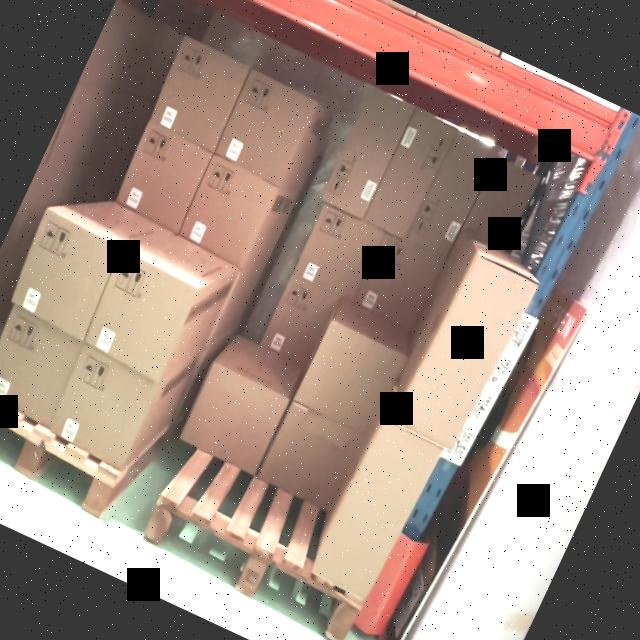box: (394, 254, 543, 453), (313, 422, 438, 600), (80, 258, 198, 384), (45, 347, 159, 468), (8, 218, 121, 338), (180, 361, 292, 468), (297, 320, 402, 434), (213, 72, 319, 184), (365, 106, 456, 234), (175, 157, 278, 270), (111, 122, 216, 232), (146, 42, 249, 154), (324, 92, 414, 216), (406, 137, 496, 258), (0, 309, 86, 431), (266, 404, 362, 506), (352, 234, 446, 334), (294, 206, 385, 300)
